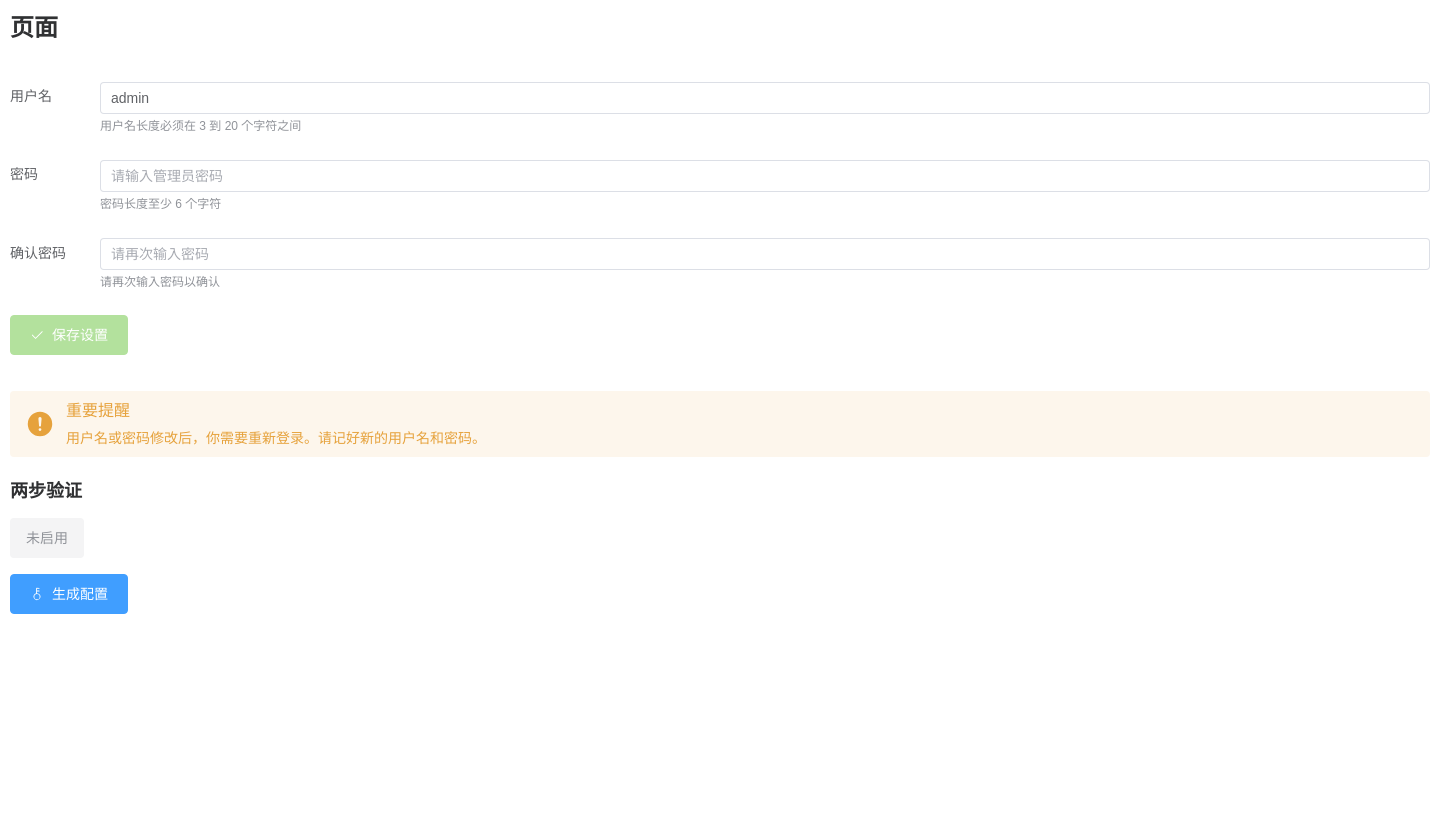
Test: AppUserSettings › 用户名和密码都未变化时禁用保存，修改用户名后允许保存
Expected: the button "保存设置" is disabled, [10, 315, 128, 355]
Replace the text in the field labelled "用户名" with "newadmin" at (765, 98), box [111, 83, 1419, 113]
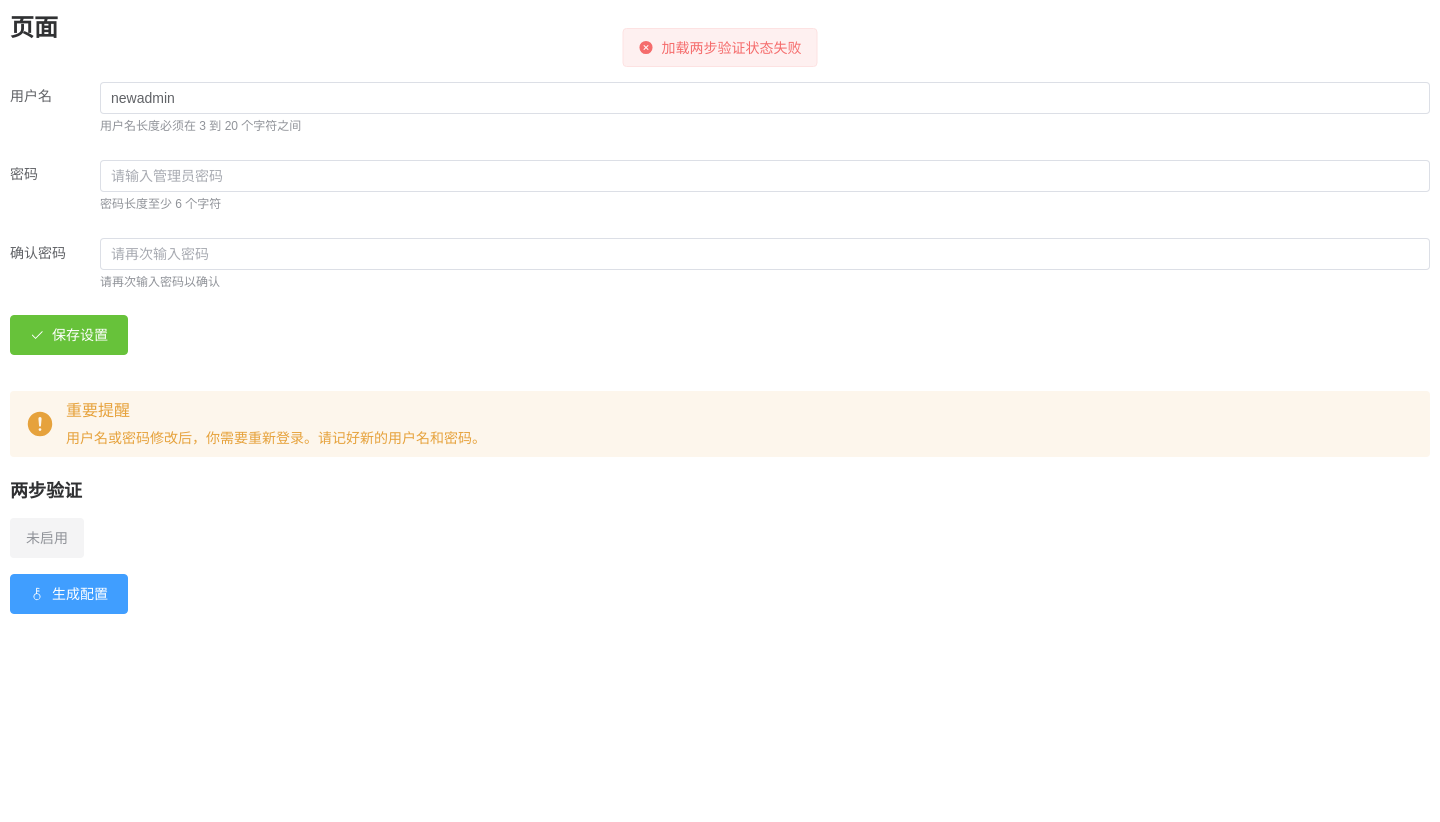
Result: the button "保存设置" is enabled at [10, 315, 128, 355]
